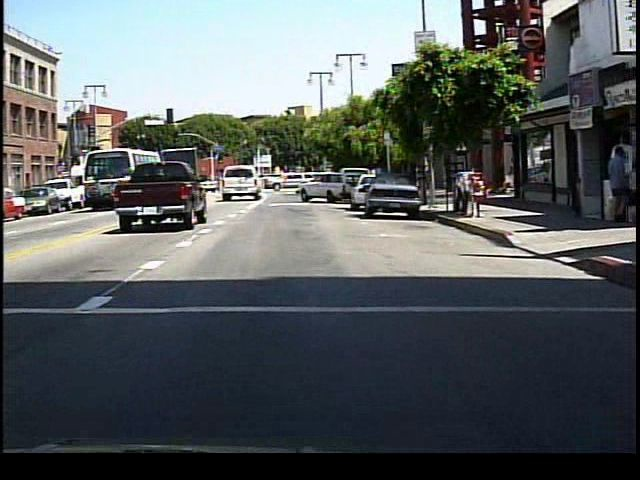person: (602, 144, 627, 224)
